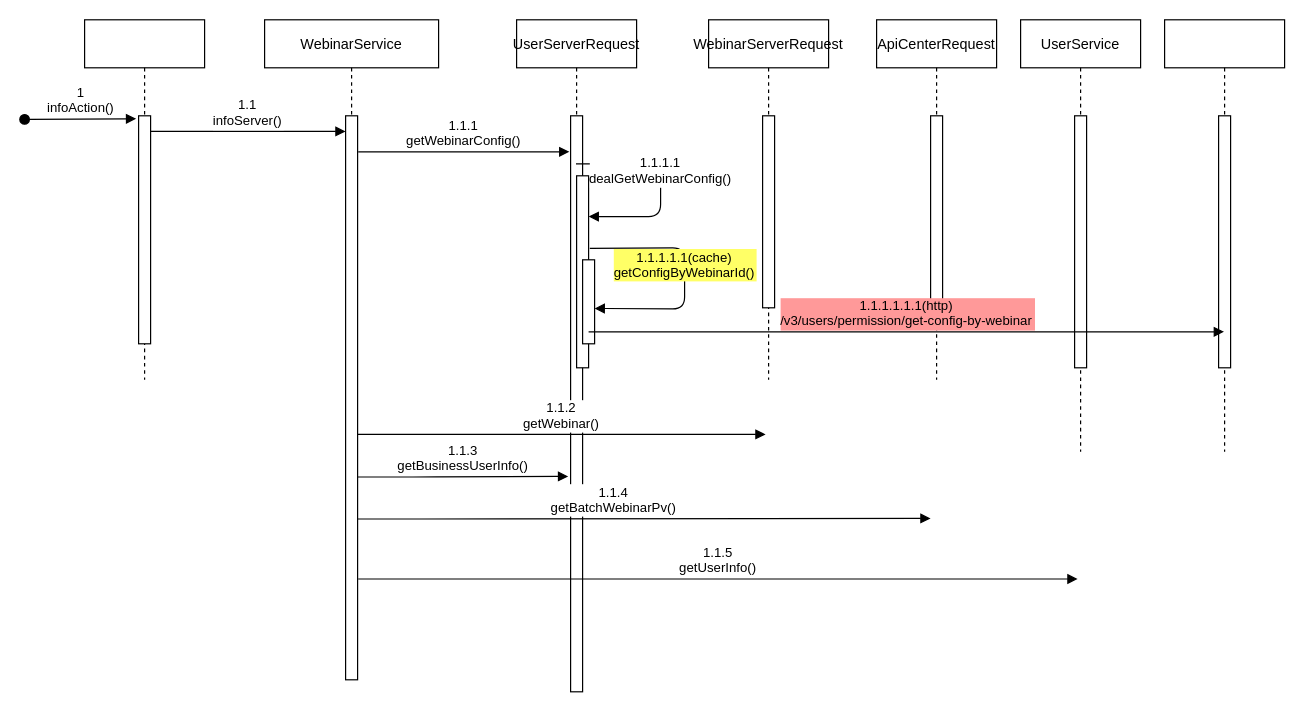
Some shapes in this 1304 by 712 pixel diagram are drawn without their labels. Each missing label, with the box of its shape:
user-permission: (1163, 19, 1285, 452)
Webinar: (83, 19, 205, 380)
